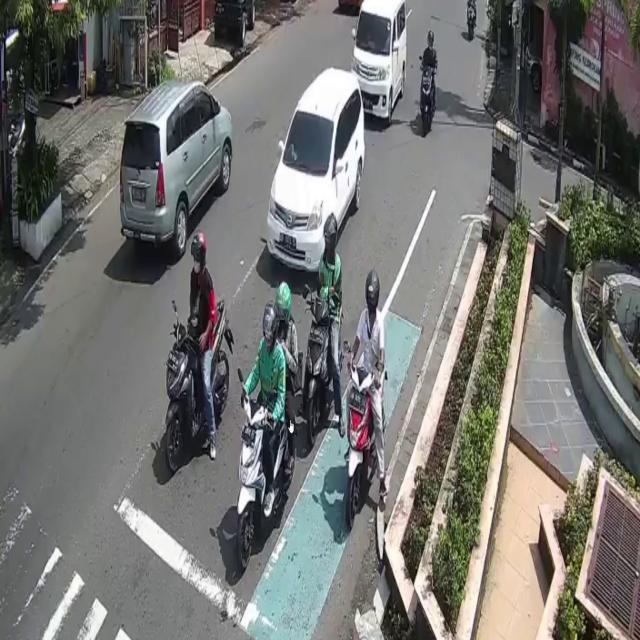bus: (163, 297, 234, 474), (237, 396, 290, 568), (346, 362, 376, 530), (305, 298, 333, 447), (422, 65, 434, 140)
motorcycle: (268, 67, 366, 274), (121, 82, 232, 256), (350, 0, 408, 125)
